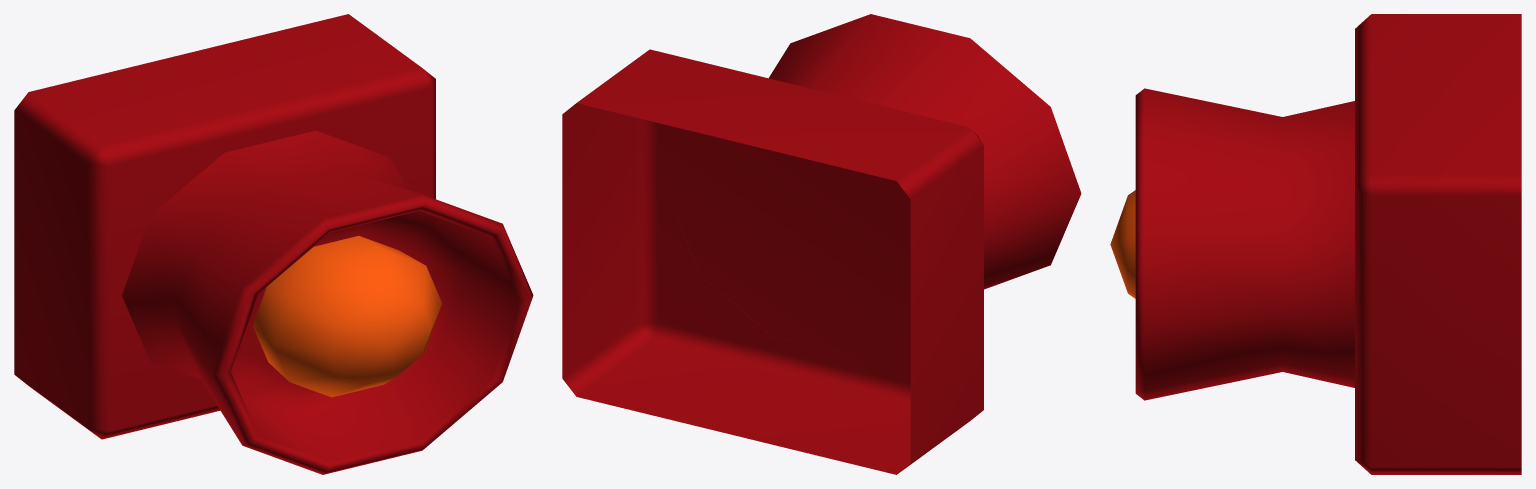
File: SM_Smoke_Detector_02.fbx
3 renders of one model, left to right at view 1: azimuth 30°, elevation 25°; view 2: azimuth 150°, elevation 25°; view 3: azimuth 270°, elevation 25°, orthographic. The views are drawn at different scales.
Parts seen in each view (by area): view 1: SM_Smoke_Detector_02; view 2: SM_Smoke_Detector_02; view 3: SM_Smoke_Detector_02.
Boxes of the visible parts, x1=… form: SM_Smoke_Detector_02: x1=14, y1=14, x2=533, y2=474; SM_Smoke_Detector_02: x1=562, y1=14, x2=1081, y2=474; SM_Smoke_Detector_02: x1=1110, y1=14, x2=1521, y2=474.
Bounding box in the file's own units: 37.94 × 30.6 × 37.89.
